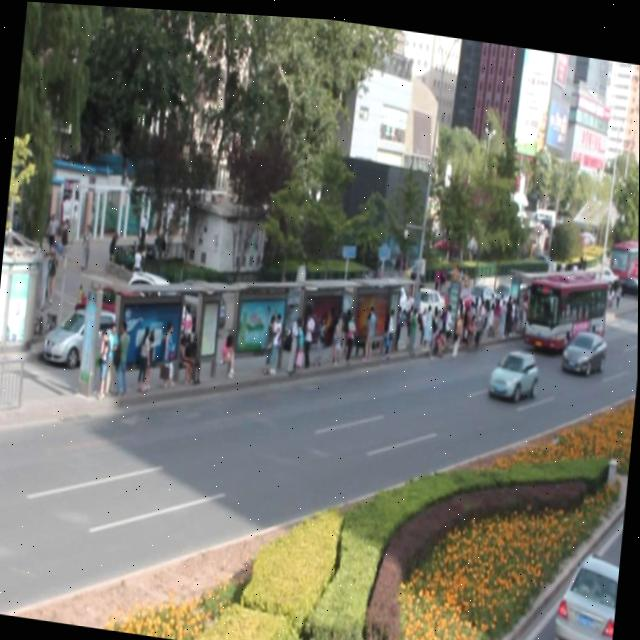car: (488, 339, 540, 394), (560, 319, 607, 370)
van: (523, 256, 608, 350)
